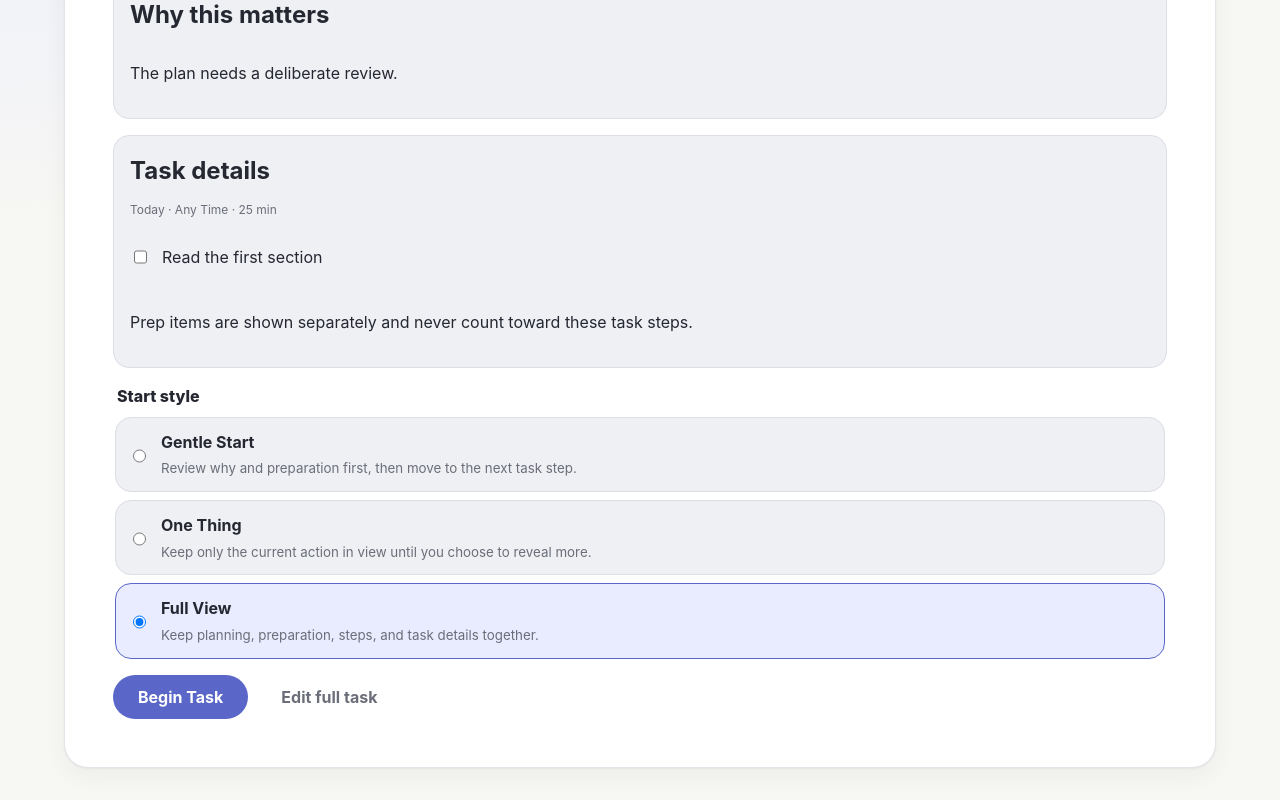
Test: Phase 4B focused start › shows Full View details together and never completes the task automatically
The image size is (1280, 800).
(page scrolled)
expect the text "The plan needs a deliberate review." is shown: met, box [130,63,398,83]
expect the radio button labelled "Full View" is checked: met, box [133,600,146,644]
Click the button "Begin Task" at [181, 697], box [113,675,248,719]
(page scrolled)
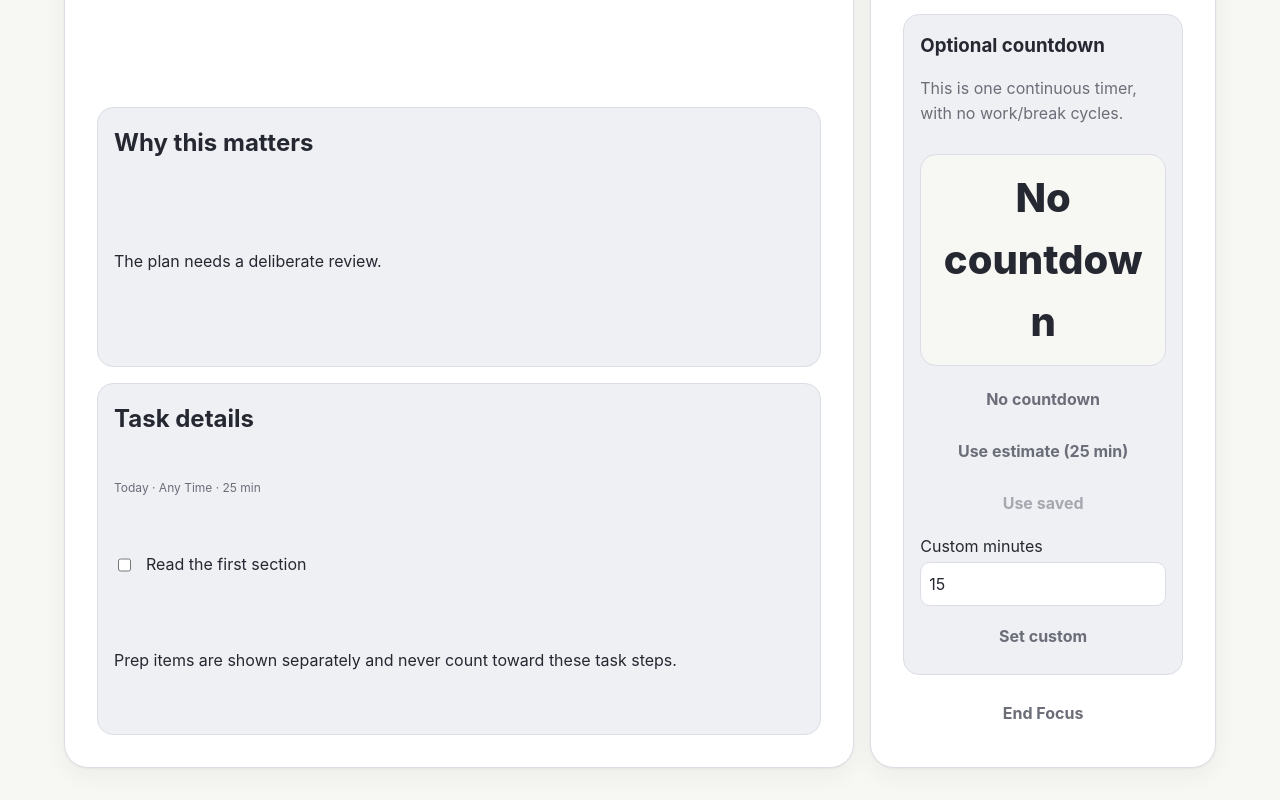
Click the checkbox at [124, 565], box [118,543,131,587]
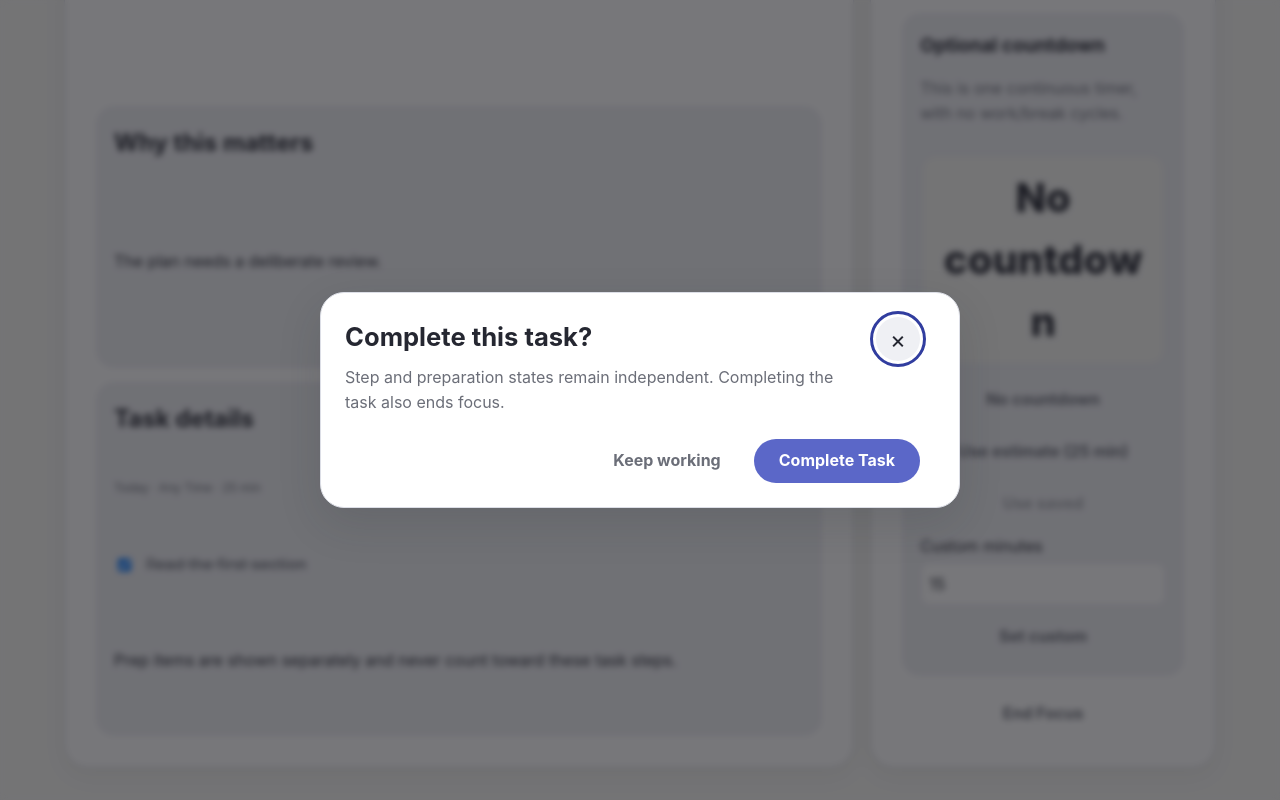
expect the dialog "Complete this task?" is shown: met, box [320,292,960,508]
